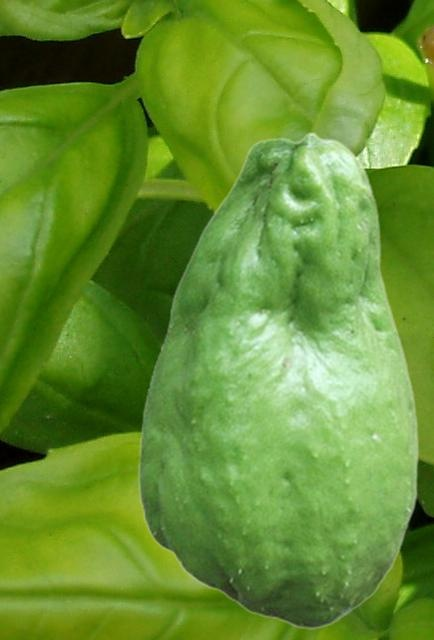sayote: (137, 131, 418, 628)
